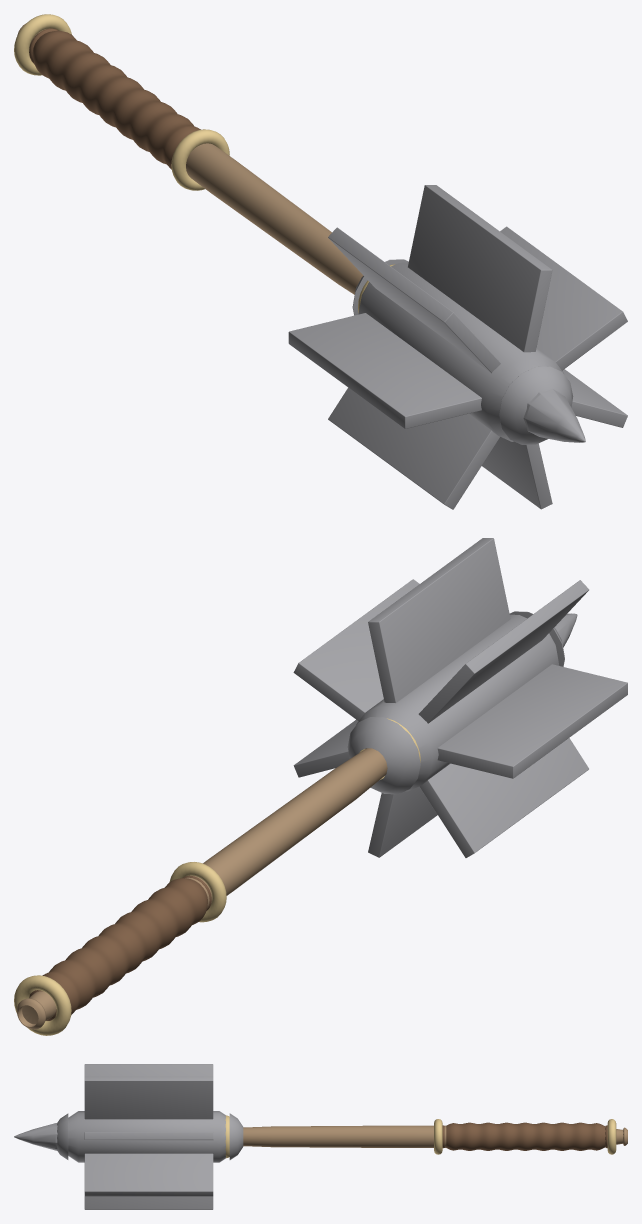
The model's file is MazaEscudo.fbx.
The picture shows the model from 3 angles, top to bottom: view 1: azimuth 30°, elevation 25°; view 2: azimuth 150°, elevation 25°; view 3: azimuth 270°, elevation 25°; orthographic projection. The views are drawn at different scales.
Parts seen in each view (by area): view 1: Cabeza de maza, Empunadura, Asta, Virolas; view 2: Cabeza de maza, Asta, Empunadura, Virolas; view 3: Cabeza de maza, Asta, Empunadura, Virolas.
Boxes of the visible parts, <box> form: Cabeza de maza: <box>288,185,627,509</box>; Empunadura: <box>29,28,200,169</box>; Asta: <box>17,24,363,294</box>; Virolas: <box>14,14,394,312</box>; Cabeza de maza: <box>293,538,627,857</box>; Asta: <box>16,748,387,1029</box>; Empunadura: <box>29,875,211,1020</box>; Virolas: <box>14,718,420,1035</box>; Cabeza de maza: <box>14,1064,243,1209</box>; Asta: <box>243,1125,627,1147</box>; Empunadura: <box>442,1122,607,1150</box>; Virolas: <box>225,1115,616,1158</box>.
Bounding box in the file's own units: 0.221 × 0.2266 × 0.955.
